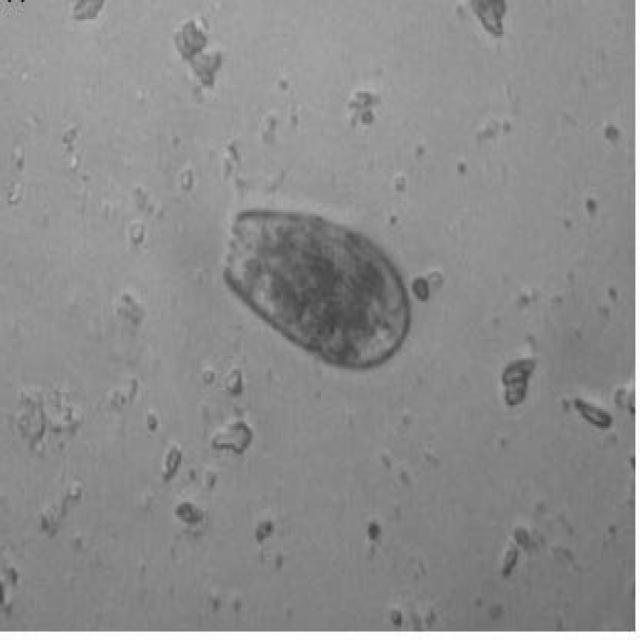Ancylostoma Spp: (210, 192, 418, 376)
